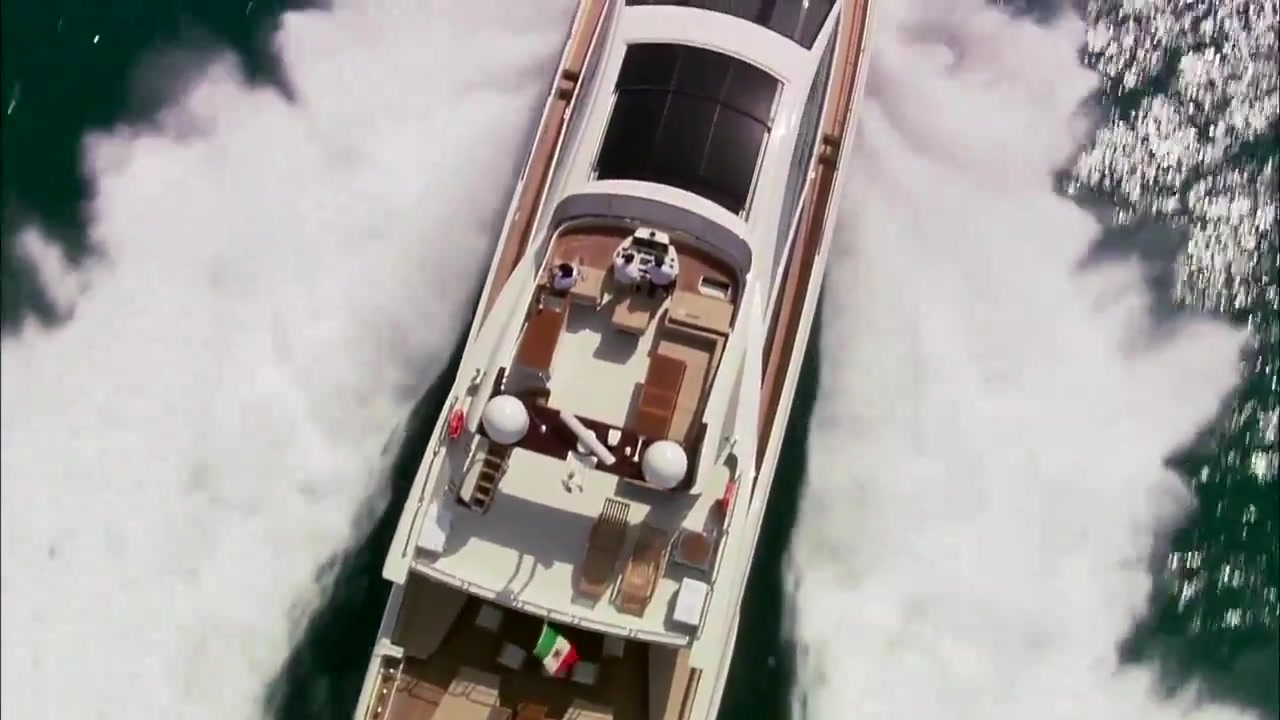boat: (347, 1, 874, 720)
